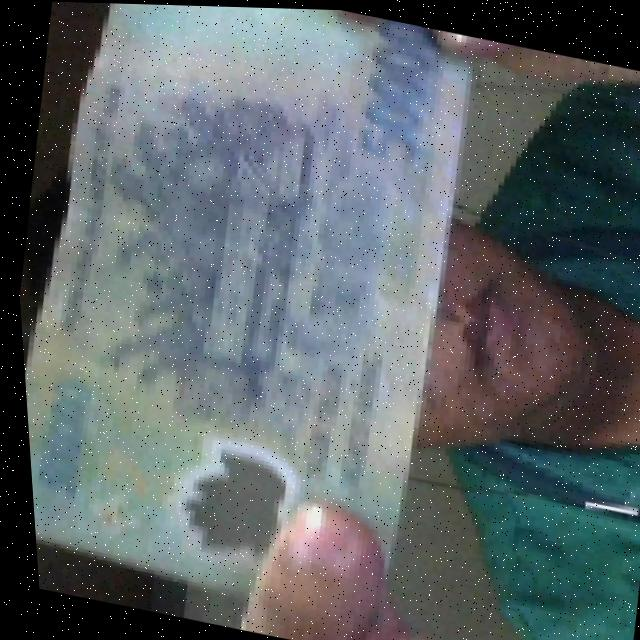500 000 VND: (0, 0, 507, 636)
